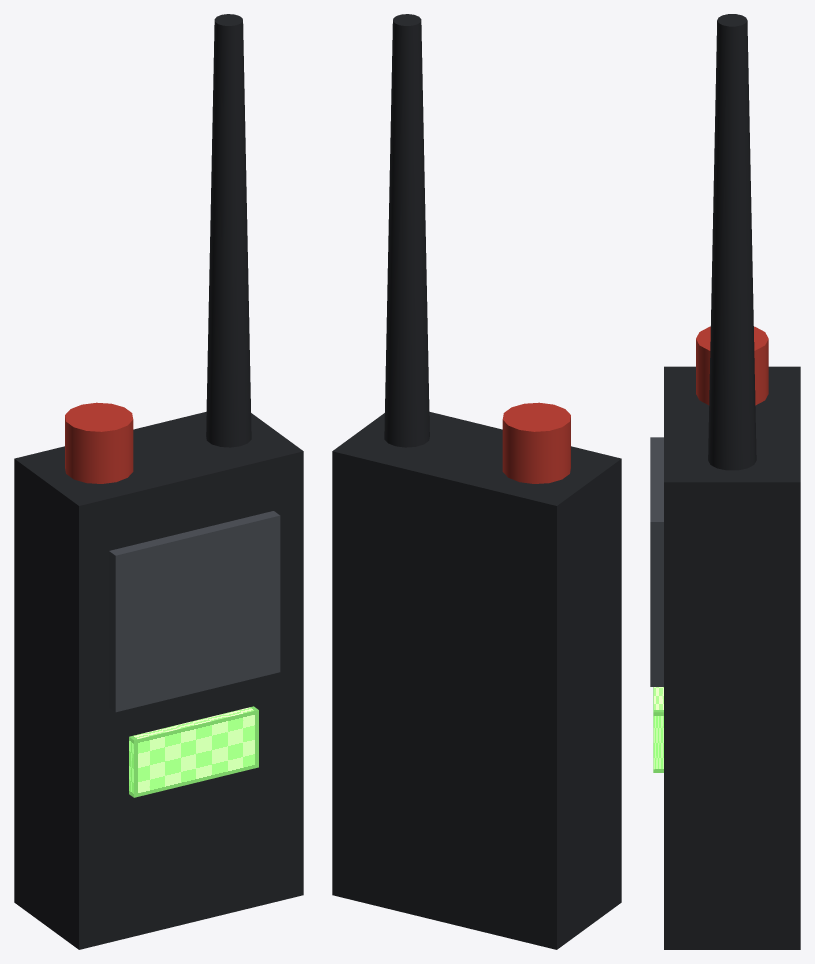
The model's file is walkie.glb.
The picture shows the model from 3 angles, left to right: view 1: azimuth 30°, elevation 25°; view 2: azimuth 150°, elevation 25°; view 3: azimuth 270°, elevation 25°; orthographic projection. The views are drawn at different scales.
Parts seen in each view (by area): view 1: walkie; view 2: walkie; view 3: walkie.
Part boxes in pixels (x1,y1,x2,y2): walkie: (14, 14, 303, 949); walkie: (332, 14, 621, 949); walkie: (650, 14, 800, 949).
Size of the model in its own units: 0.09 by 0.33 by 0.0495.
4 materials, 1 textured.
